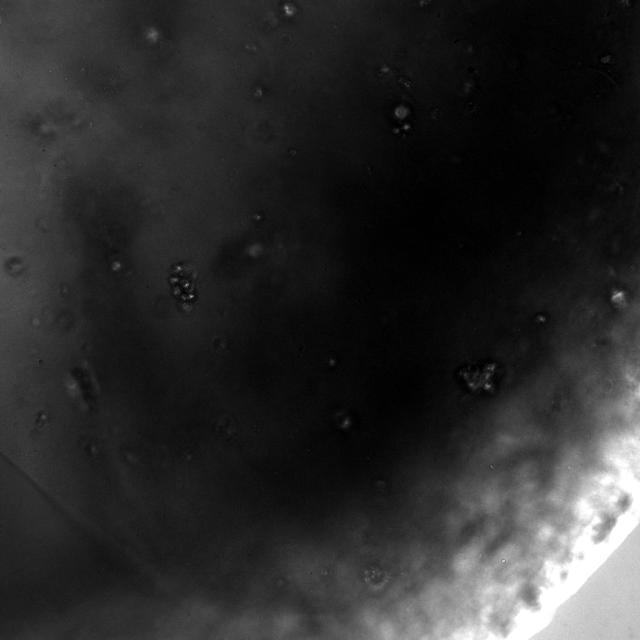organoid: (454, 359, 503, 395), (167, 261, 198, 312), (70, 366, 98, 407), (391, 101, 413, 137)
